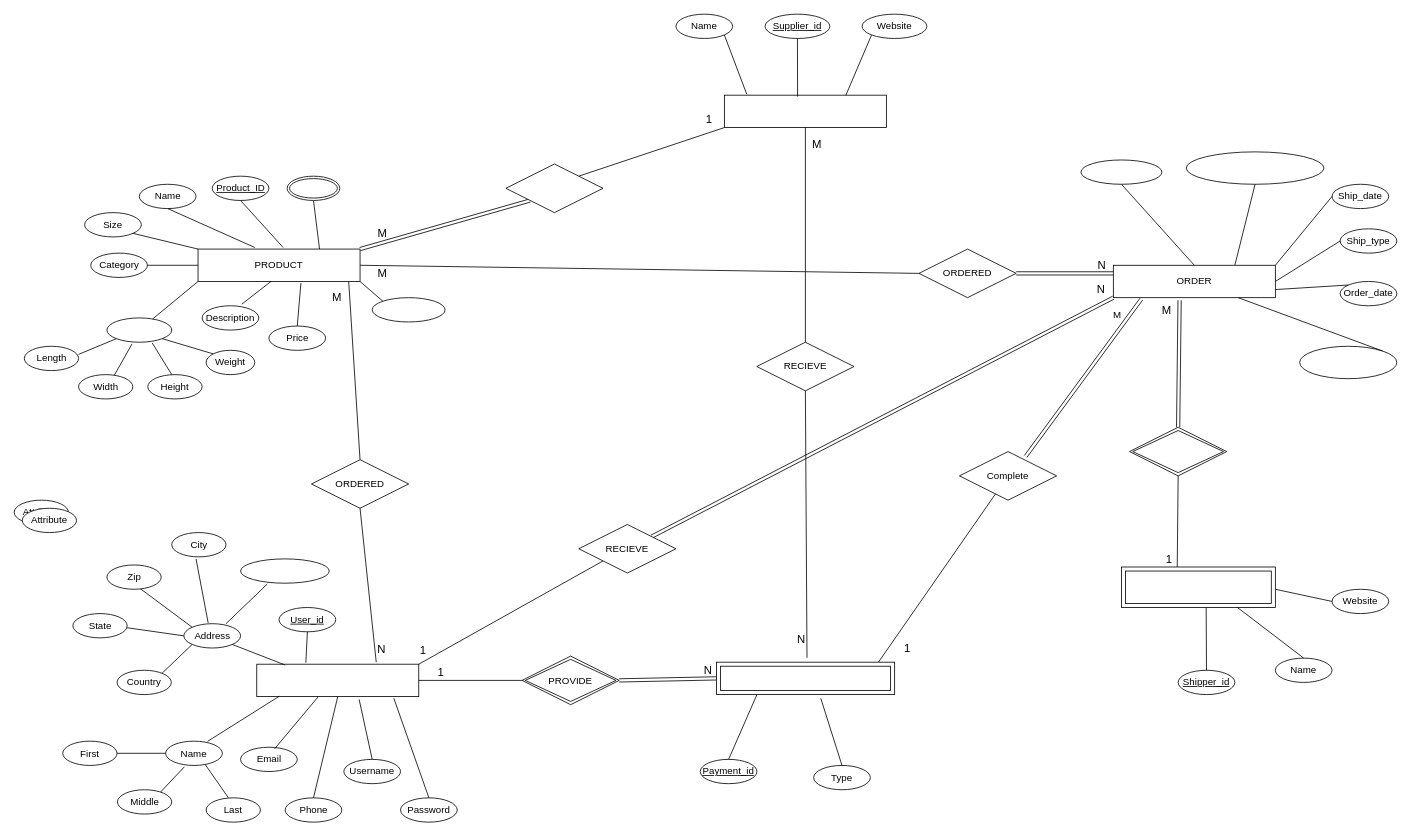
This 1411x837 diagram has some shape labels left out. Here are the shapes that lost their labels. From the top down, the centre of each, then its label:
At [805,111]: "SUPPLIER".
At [313,187]: "Color".
At [1121,171]: "Order_number".
At [1254,167]: "Number_of_products".
At [554,188]: "SUPPLIED".
At [139,329]: "Dimensions".
At [408,309]: "Units_in_stock".
At [1348,362]: "Tracking_number".
At [1178,451]: "SHIP".
At [284,570]: "Street_address".
At [1198,587]: "SHIPPER".
At [337,680]: "USER".
At [805,678]: "PAYMENT".
